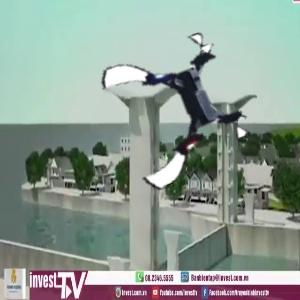drone: (108, 44, 246, 182)
